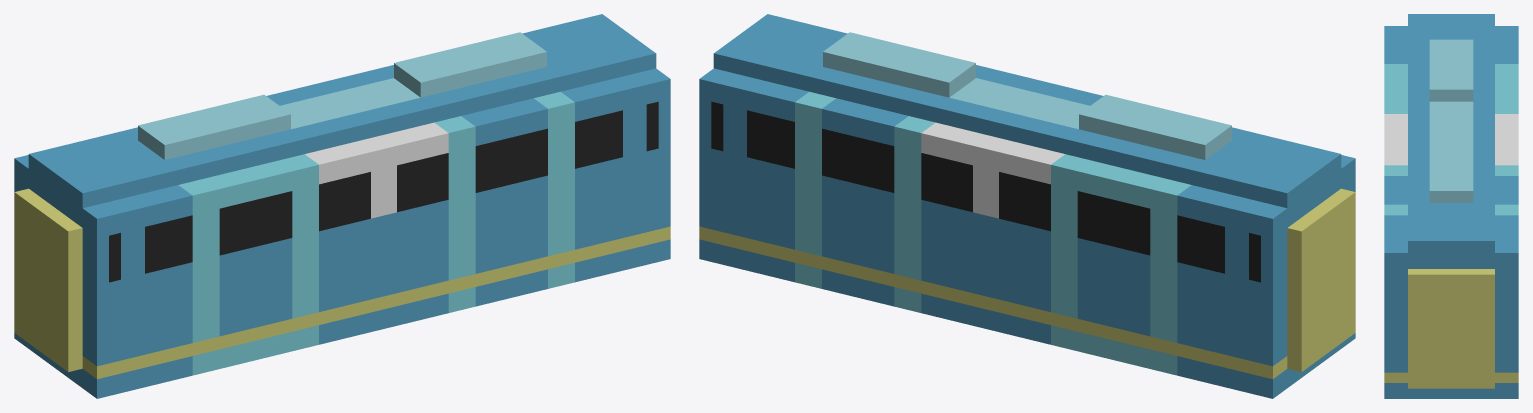
Rendered from Train.fbx.
3 renders of one model, left to right at view 1: azimuth 30°, elevation 25°; view 2: azimuth 150°, elevation 25°; view 3: azimuth 270°, elevation 25°, orthographic. The views are drawn at different scales.
Parts seen in each view (by area): view 1: Cube.005; view 2: Cube.005; view 3: Cube.005.
Boxes of the visible parts, x1=… form: Cube.005: x1=14, y1=14, x2=670, y2=398; Cube.005: x1=699, y1=14, x2=1355, y2=398; Cube.005: x1=1384, y1=14, x2=1518, y2=398.
Bounding box in the file's own units: 4.2 × 1.4 × 1.
